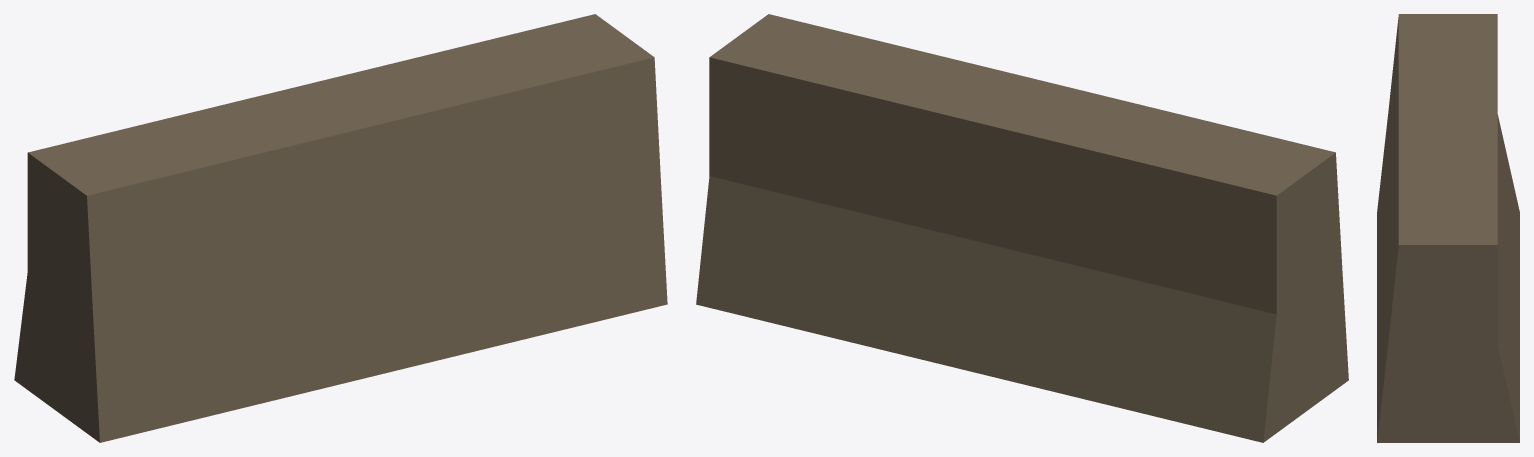
The model's file is wall.glb.
3 views of the same model, side by side, from view 1: azimuth 30°, elevation 25°; view 2: azimuth 150°, elevation 25°; view 3: azimuth 270°, elevation 25° (orthographic). The views are drawn at different scales.
Parts seen in each view (by area): view 1: Wall; view 2: Wall; view 3: Wall.
Part boxes in pixels (x1,y1,x2,y2): Wall: [14, 14, 667, 442]; Wall: [696, 14, 1348, 442]; Wall: [1377, 14, 1519, 442].
Bounding box in the file's own units: 10 × 4 × 2.61.
